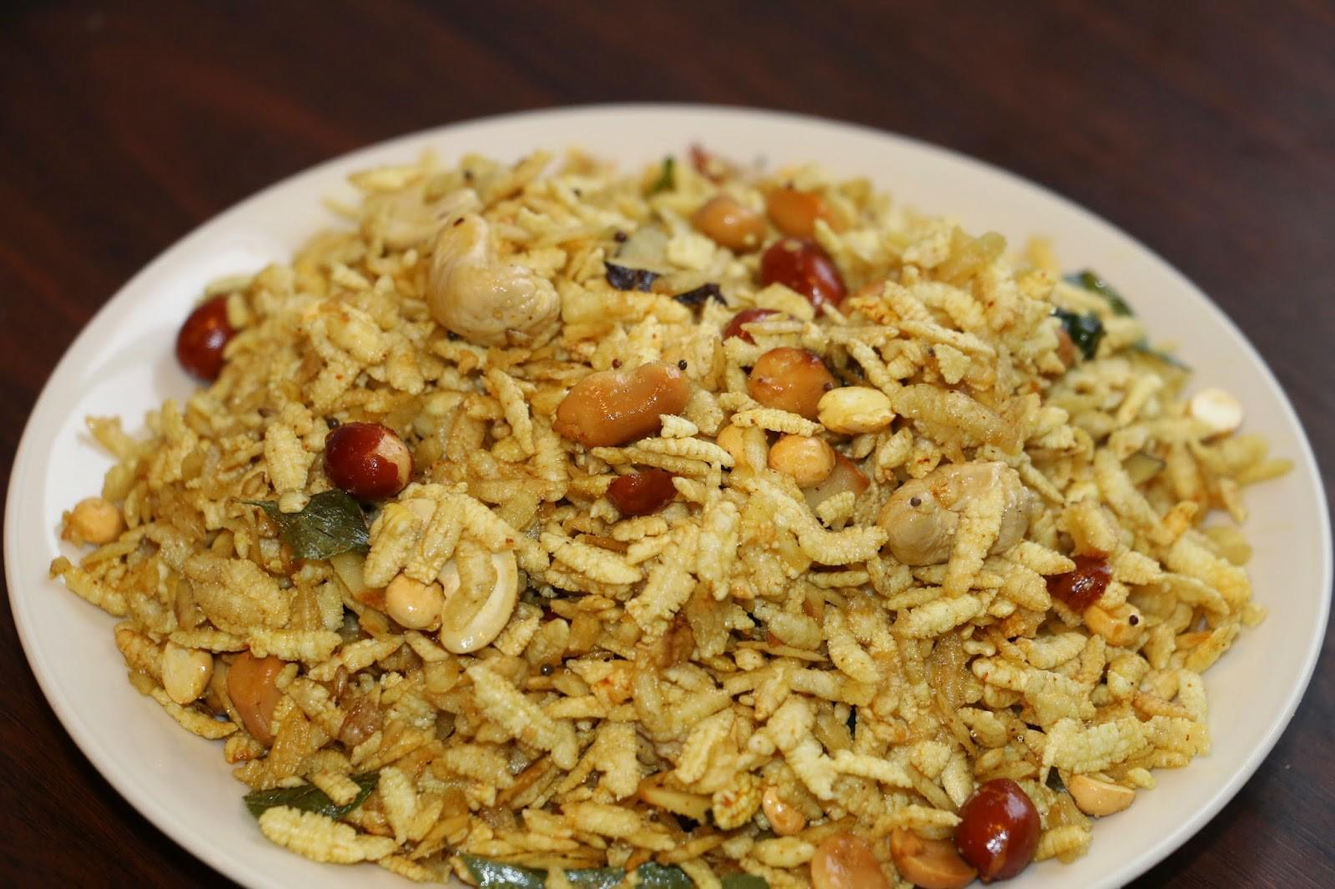Poha: (0, 135, 1305, 889)
